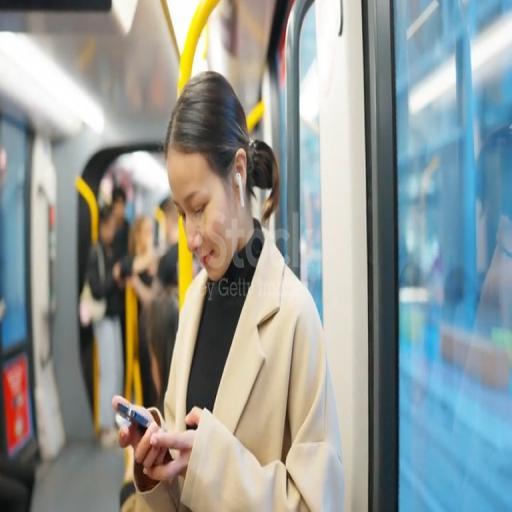earphone: (228, 167, 248, 212)
